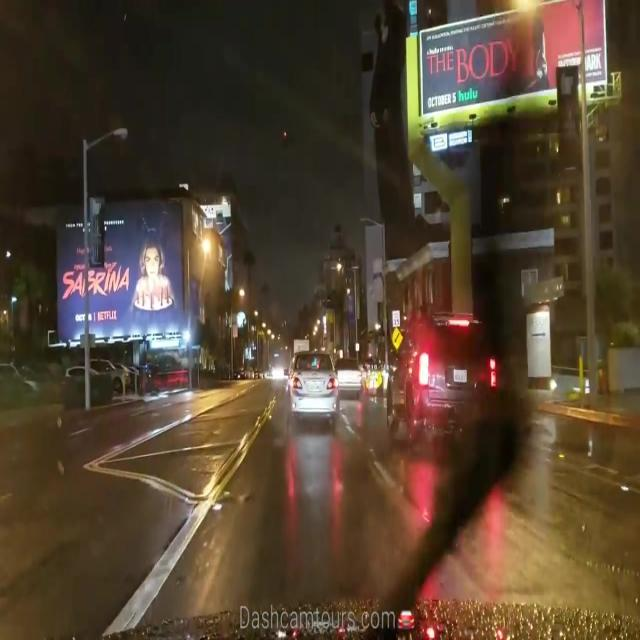Car: (386, 315, 496, 440), (286, 350, 336, 416), (335, 359, 364, 401)
